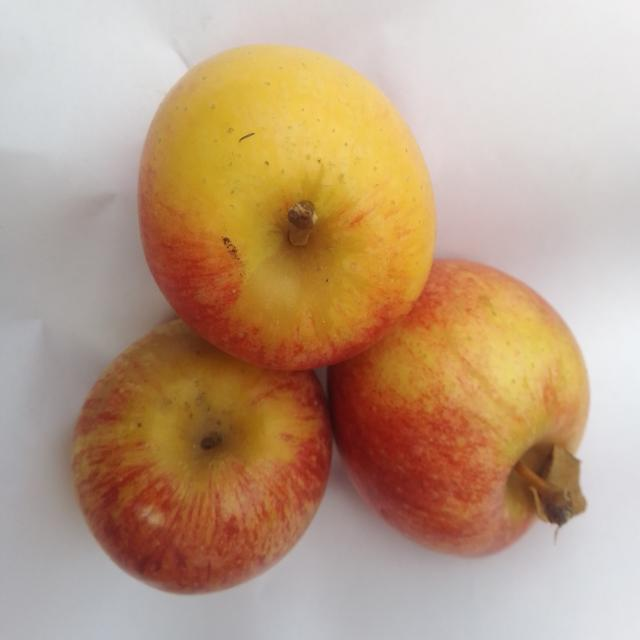Fresh Apple: (132, 47, 433, 363), (342, 265, 593, 567), (75, 325, 338, 590)
